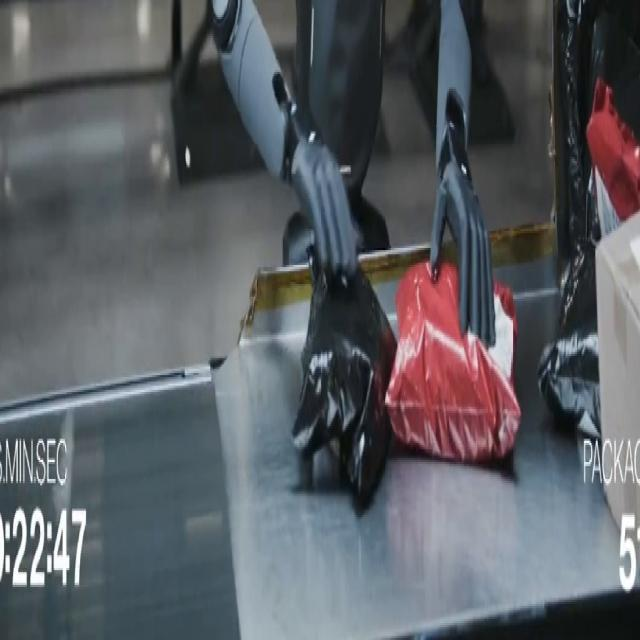package: (538, 0, 639, 436), (386, 263, 520, 464), (292, 259, 396, 510), (555, 0, 639, 252), (596, 217, 639, 525), (538, 240, 600, 436), (587, 79, 639, 235)
